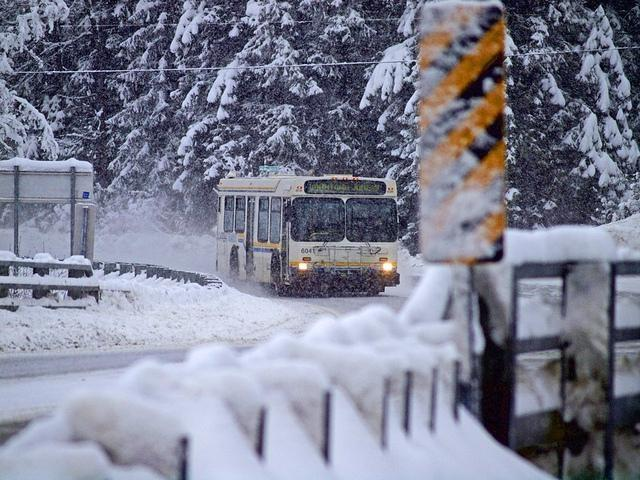bus: (216, 178, 399, 294)
